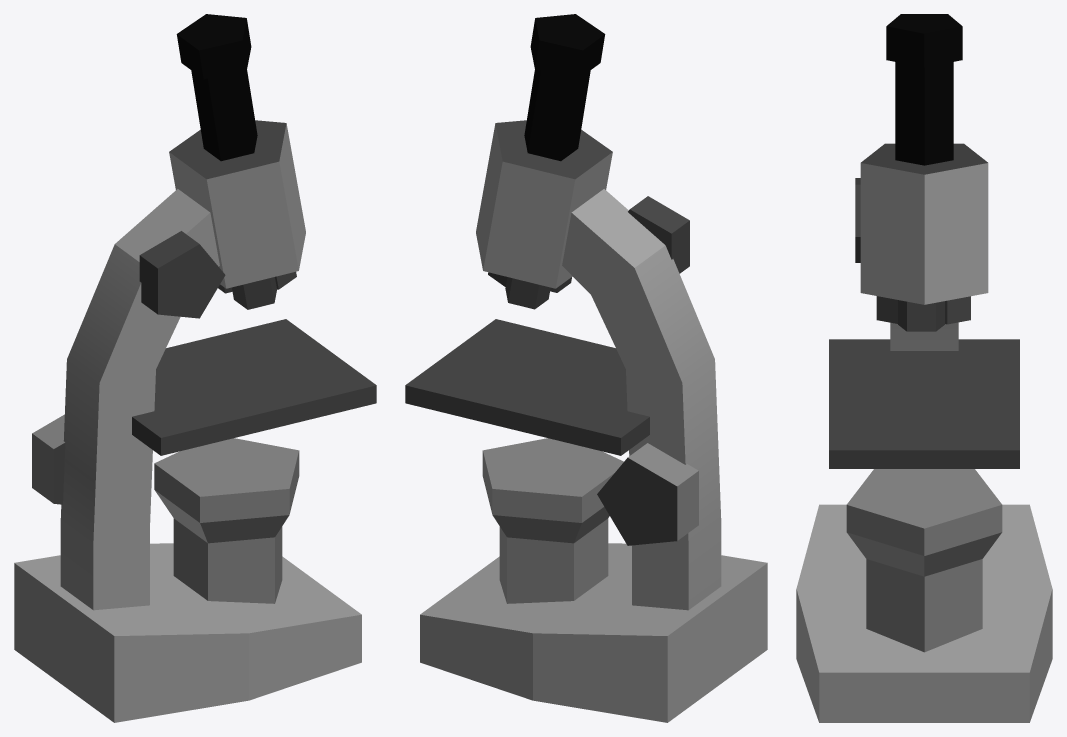
Rendered from Microscope.fbx.
3 renders of one model, left to right at view 1: azimuth 30°, elevation 25°; view 2: azimuth 150°, elevation 25°; view 3: azimuth 270°, elevation 25°, orthographic. The views are drawn at different scales.
Visible parts, largest first — view 1: Microscope; view 2: Microscope; view 3: Microscope.
Part boxes in pixels (x1,y1,x2,y2): Microscope: (14,14,376,722); Microscope: (405,14,767,722); Microscope: (796,14,1052,722).
Bounding box in the file's own units: 16.21 × 36.16 × 12.79.
Materials: 1 (1 with a texture image).
